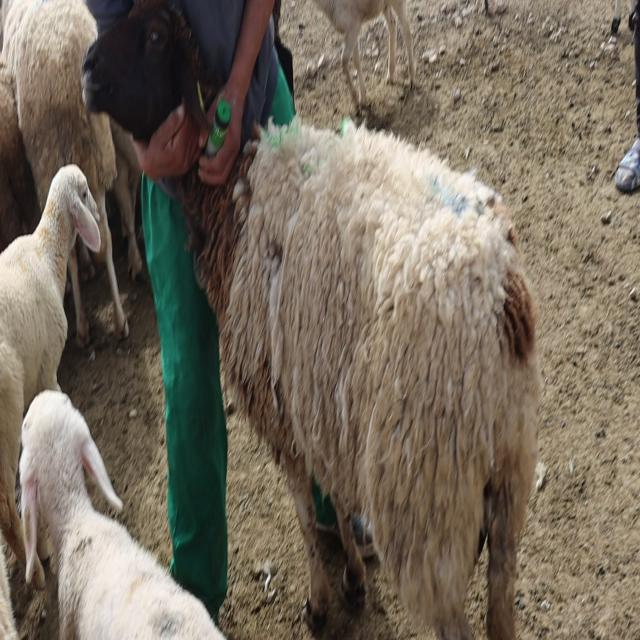Score_1: (179, 118, 540, 639)
